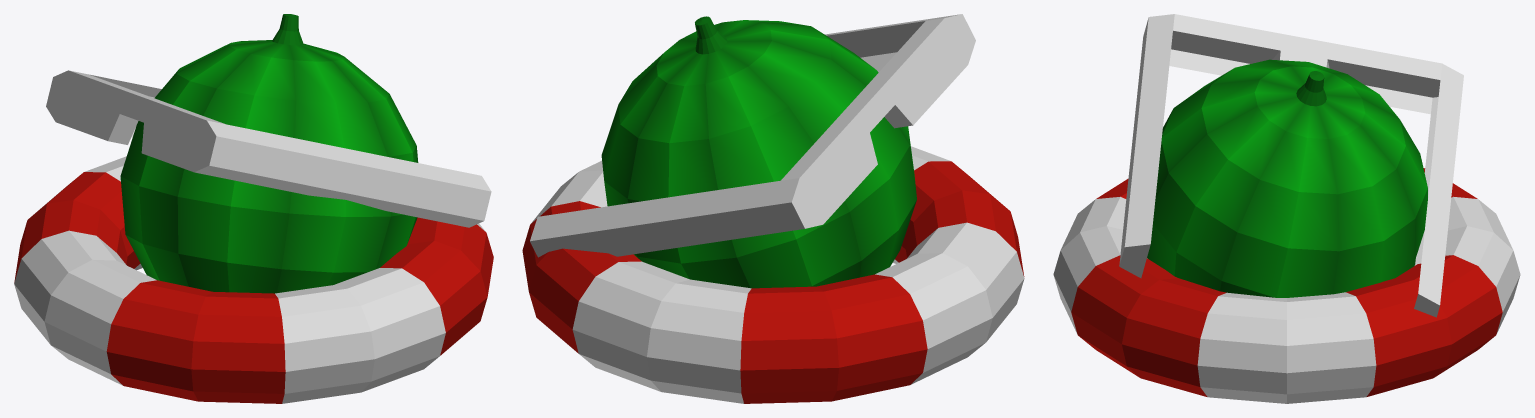
Rendered from tor.fbx.
3 renders of one model, left to right at view 1: azimuth 30°, elevation 25°; view 2: azimuth 150°, elevation 25°; view 3: azimuth 270°, elevation 25°, orthographic. The views are drawn at different scales.
Visible parts, largest first — view 1: Тор, Сфера, Куб; view 2: Тор, Сфера, Куб; view 3: Сфера, Тор, Куб.
Boxes of the visible parts, x1,y1,x2,y2 form: Тор: [14, 156, 493, 403]; Сфера: [120, 14, 418, 293]; Куб: [46, 70, 491, 227]; Тор: [522, 146, 1024, 403]; Сфера: [601, 16, 916, 288]; Куб: [530, 14, 975, 257]; Сфера: [1147, 59, 1427, 297]; Тор: [1053, 168, 1520, 403]; Куб: [1119, 14, 1463, 317].
Size of the model in its own units: 260 by 174 by 260.
